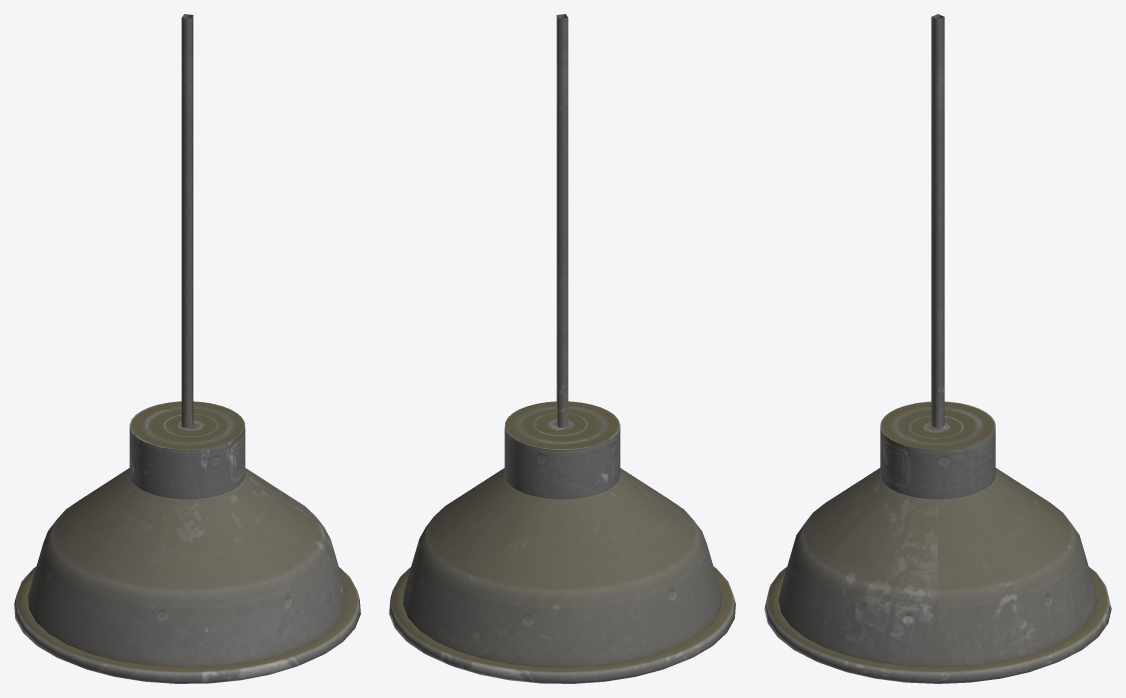
Rendered from SM_LampCeilingB_01.FBX.
3 views of the same model, side by side, from view 1: azimuth 30°, elevation 25°; view 2: azimuth 150°, elevation 25°; view 3: azimuth 270°, elevation 25° (orthographic).
Visible parts, largest first — view 1: SM_LampCeilingB_01_LOD0; view 2: SM_LampCeilingB_01_LOD0; view 3: SM_LampCeilingB_01_LOD0.
Part boxes in pixels (x1=…): SM_LampCeilingB_01_LOD0: x1=14, y1=14, x2=360, y2=683; SM_LampCeilingB_01_LOD0: x1=389, y1=14, x2=735, y2=683; SM_LampCeilingB_01_LOD0: x1=764, y1=14, x2=1111, y2=683.
Size of the model in its own units: 52.66 by 52.66 by 100.
